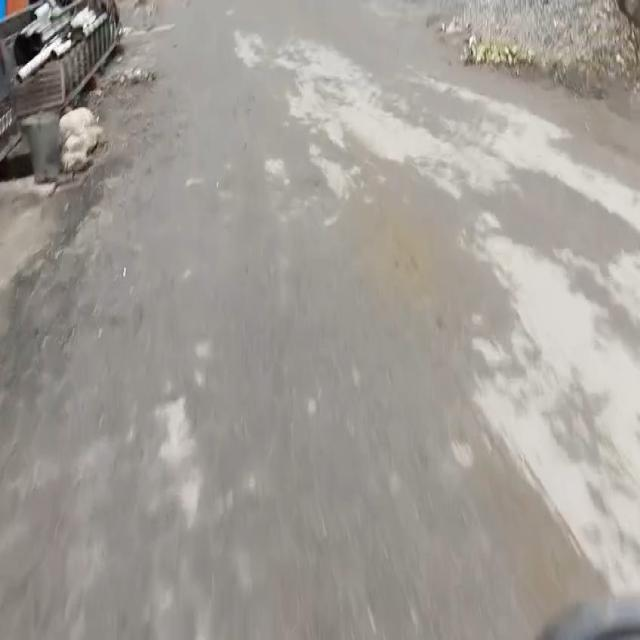road-pothole: (5, 160, 140, 400)
